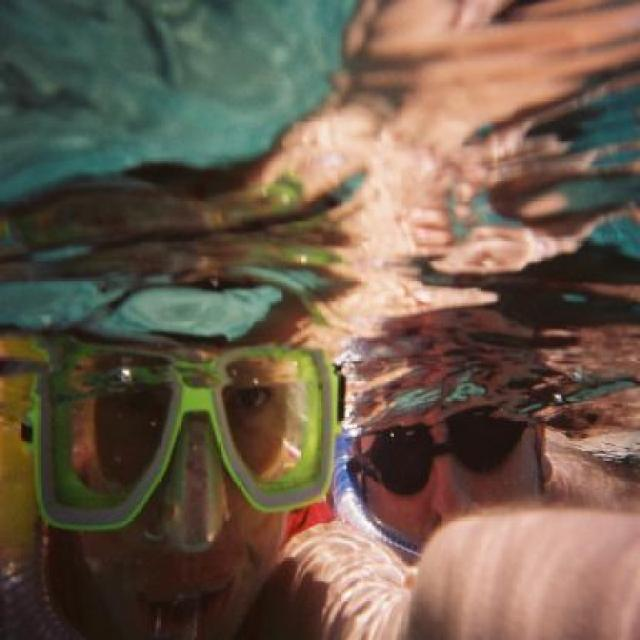glasses: (28, 333, 349, 533), (348, 386, 534, 512)
